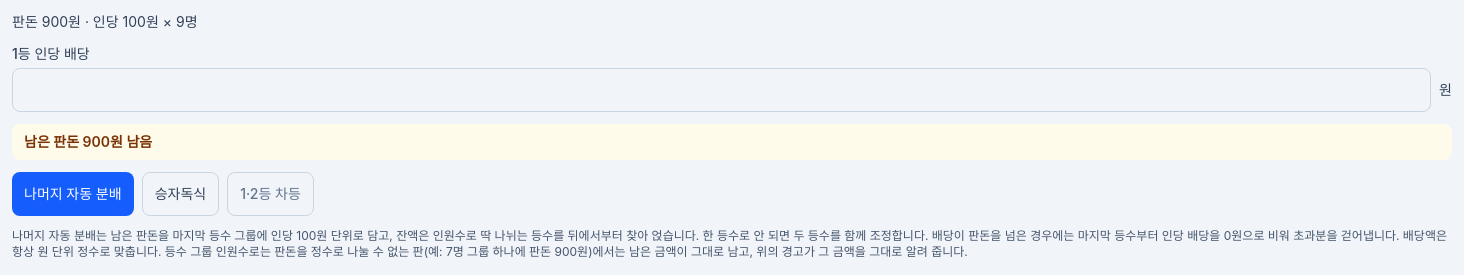
PayoutEditor — 배당액 정수 보장 › 정수 해가 없는 판에서도 소수를 만들지 않고 잔액을 정수로 남긴다
The width and height of the screenshot is (1464, 275).
Click the button "나머지 자동 분배".
click(73, 194)  # box [12,172,134,216]
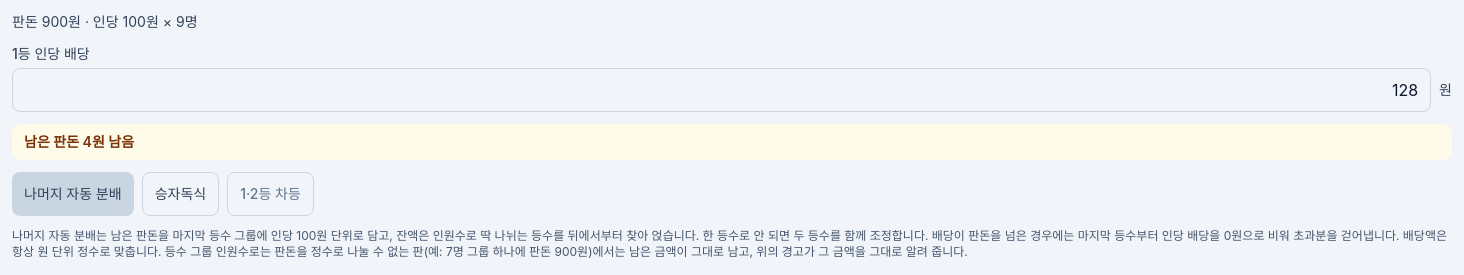
Now the text "남은 판돈 4원 남음" is shown, box [12,124,1452,160]
Now the button "나머지 자동 분배" is disabled, box [12,172,134,216]
